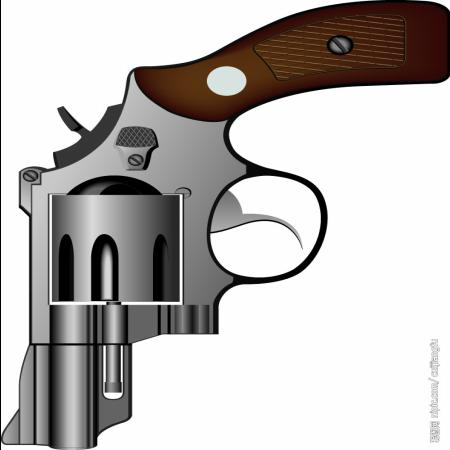Pistol: (1, 0, 447, 446)
